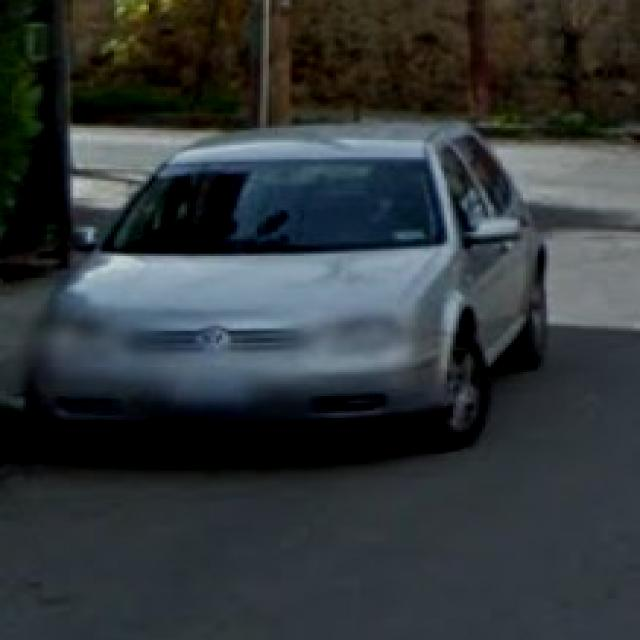car: (44, 113, 549, 451)
